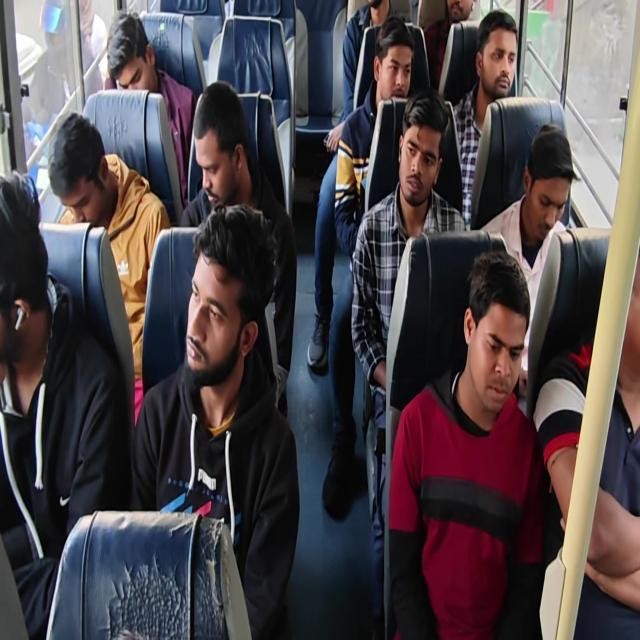person: (1, 1, 638, 638), (131, 202, 300, 638), (350, 88, 468, 636), (387, 249, 547, 638), (0, 168, 131, 637), (317, 15, 415, 520), (534, 240, 640, 638), (180, 80, 297, 418), (47, 111, 172, 427), (479, 122, 580, 394), (333, 16, 415, 260), (105, 11, 197, 204), (450, 9, 518, 227), (325, 0, 395, 154), (28, 1, 107, 132), (423, 0, 475, 91)
